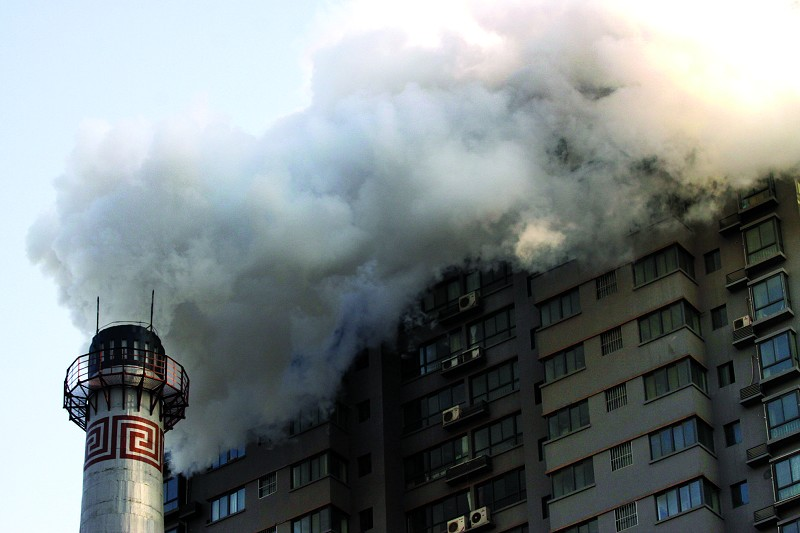dust: (31, 57, 471, 354)
